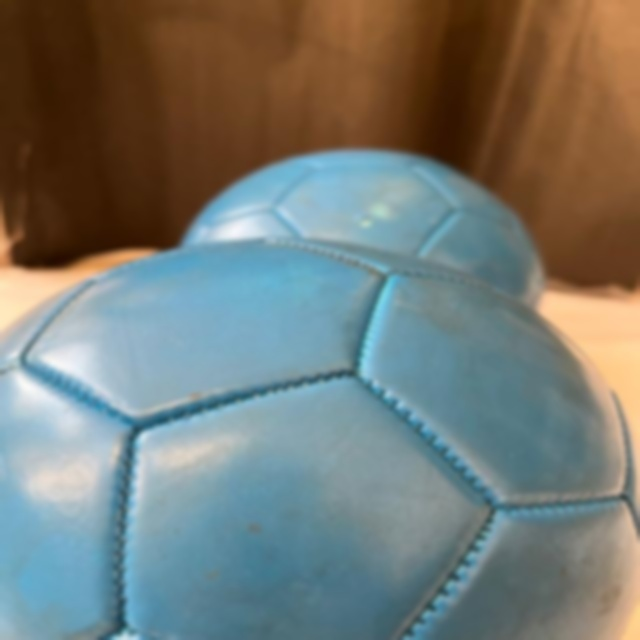blue_ball: (0, 241, 640, 640), (156, 143, 548, 314)
